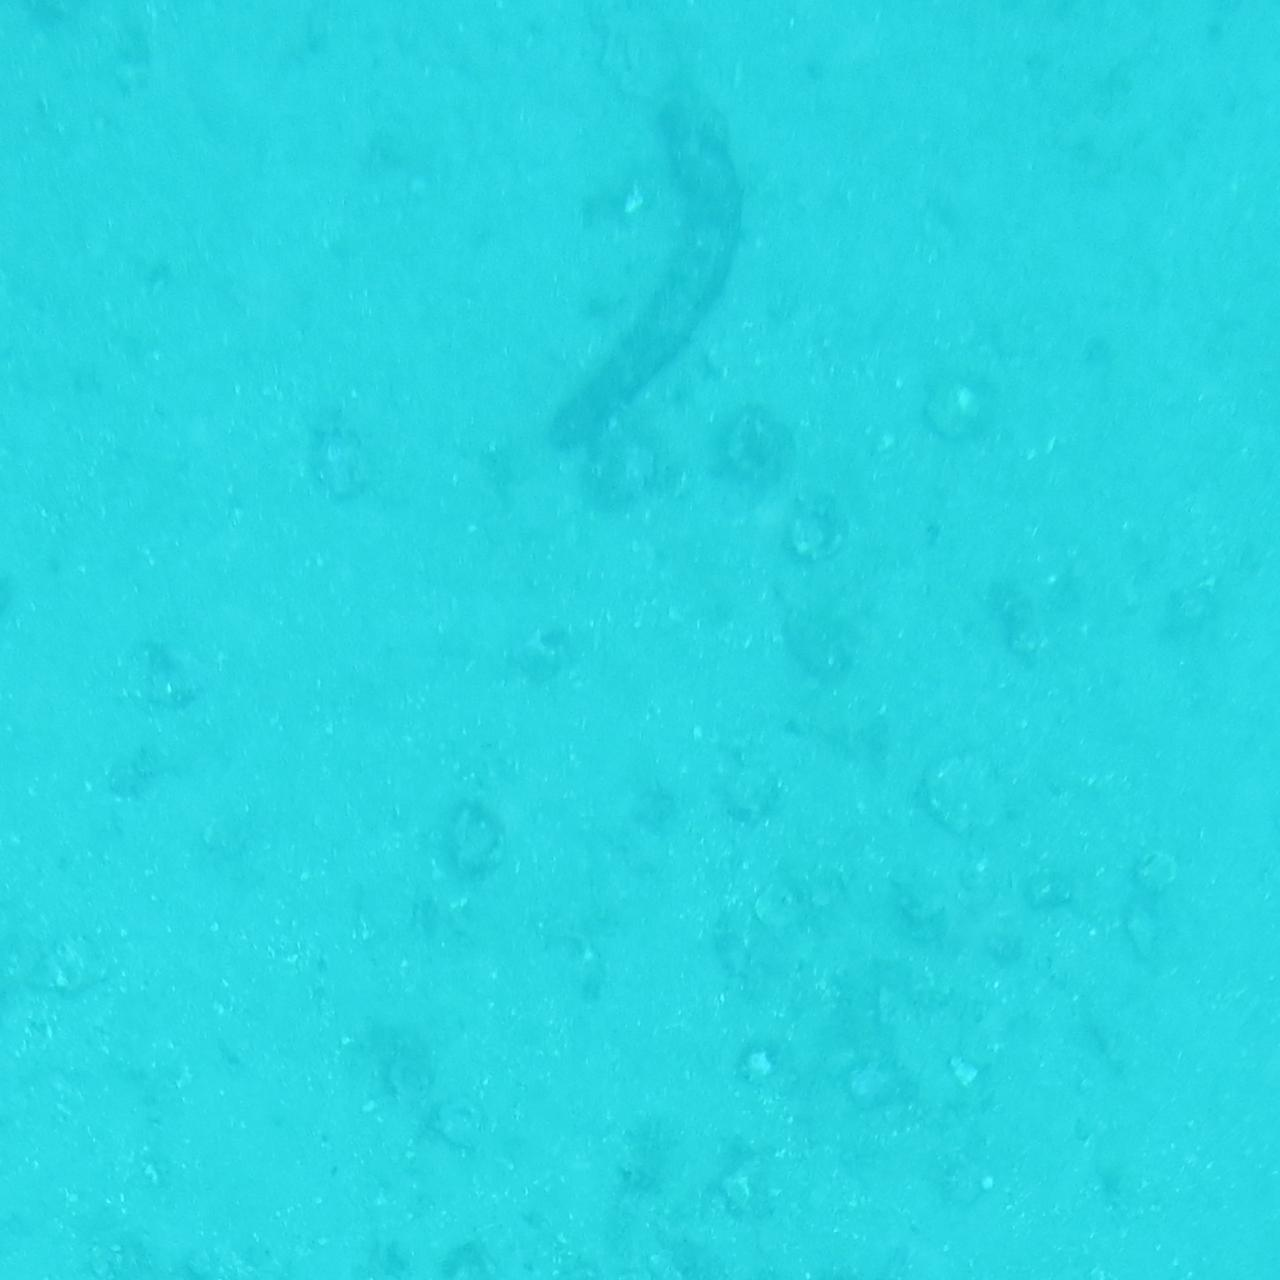Holothuria tubulosa: (534, 78, 746, 467)
